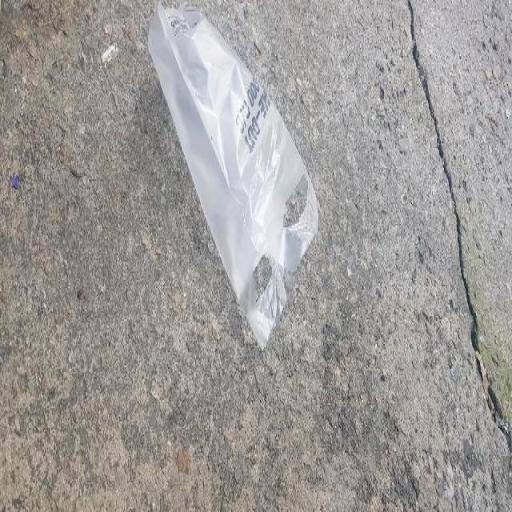plastic-bag: (147, 0, 322, 356)
